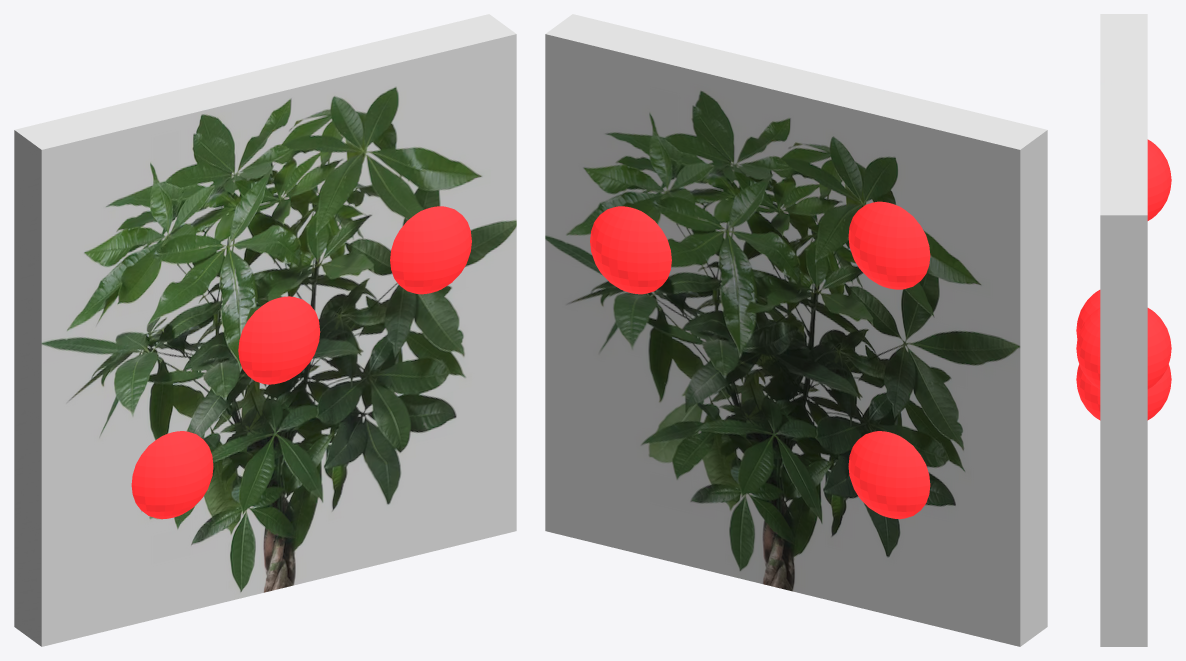
Rendered from tomato_5.dae.
The picture shows the model from 3 angles, left to right: view 1: azimuth 30°, elevation 25°; view 2: azimuth 150°, elevation 25°; view 3: azimuth 270°, elevation 25°; orthographic projection. The views are drawn at different scales.
Parts seen in each view (by area): view 1: Cube, Sphere.002, Sphere, Sphere.001; view 2: Cube, Sphere.002, Sphere.003, Sphere.001; view 3: Cube, Sphere.001, Sphere.002, Sphere.003, Sphere.
Part boxes in pixels (x1,y1,x2,y2): Cube: [14, 14, 516, 646]; Sphere.002: [131, 431, 213, 519]; Sphere: [238, 296, 320, 384]; Sphere.001: [390, 206, 471, 294]; Cube: [545, 14, 1047, 646]; Sphere.002: [848, 431, 930, 519]; Sphere.003: [848, 201, 930, 289]; Sphere.001: [590, 206, 671, 294]; Cube: [1100, 14, 1147, 646]; Sphere.001: [1076, 308, 1171, 389]; Sphere.002: [1076, 364, 1171, 420]; Sphere.003: [1147, 139, 1171, 220]; Sphere: [1076, 290, 1100, 338].
Size of the model in its own units: 1 by 0.2 by 1.
Materials: 5 (1 with a texture image).
